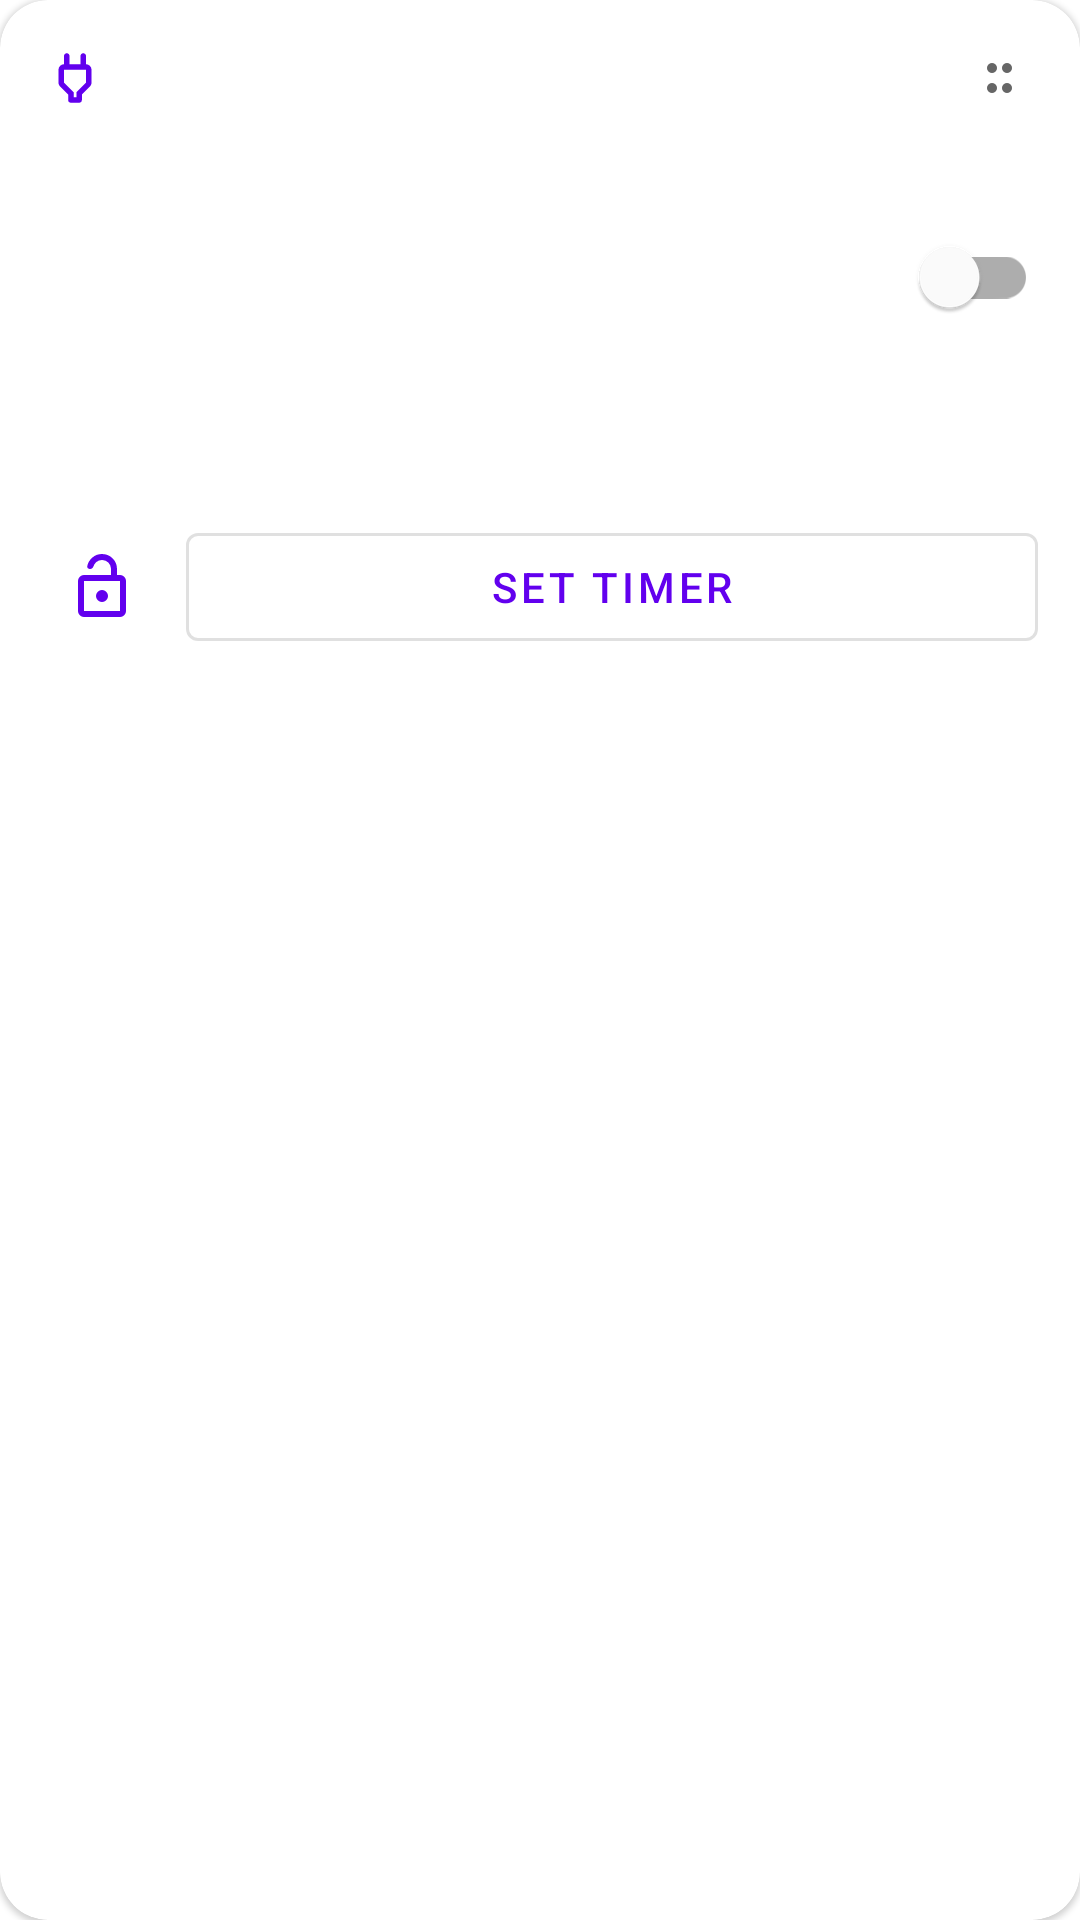

Icon click points for this 1080*1920 phone screenshot, format point (x, y):
Reorder: point (999, 78)
smart plug: point (75, 78)
Toggle child lock: point (102, 585)
